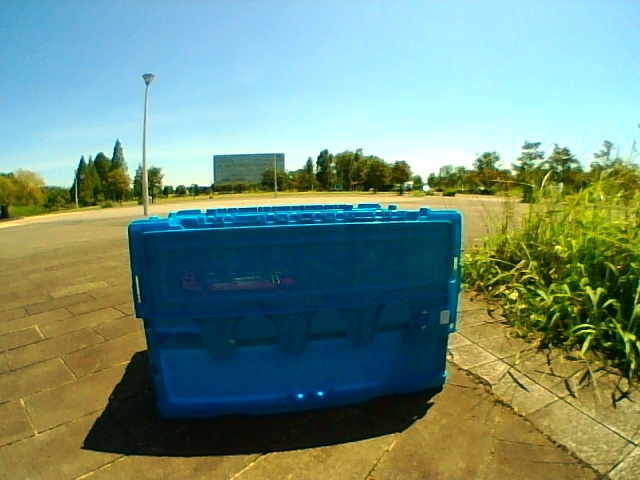blue_box: (154, 217, 447, 385)
